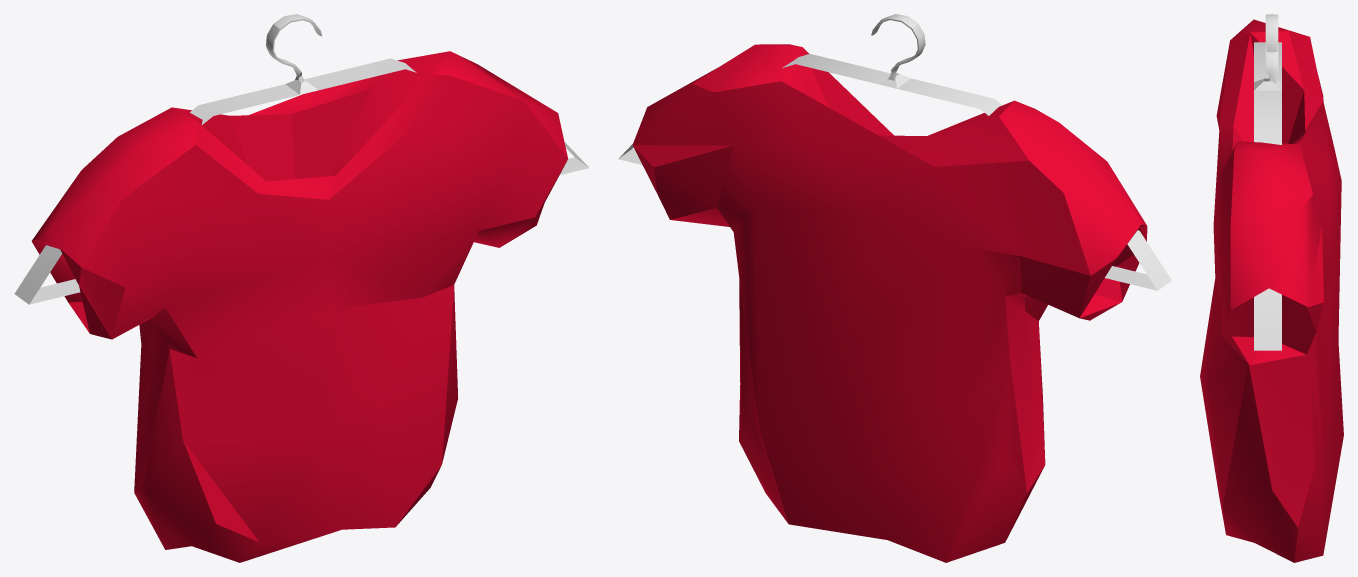
3 renders of one model, left to right at view 1: azimuth 30°, elevation 25°; view 2: azimuth 150°, elevation 25°; view 3: azimuth 270°, elevation 25°, orthographic. The views are drawn at different scales.
Visible parts, largest first — view 1: Cube, Cube.001, Cube.002; view 2: Cube, Cube.001, Cube.002; view 3: Cube, Cube.001, Cube.002.
Part boxes in pixels (x1,y1,x2,y2): Cube: (31,51,567,562); Cube.001: (14,58,588,304); Cube.002: (266,14,322,82); Cube: (632,44,1147,562); Cube.001: (618,53,1171,290); Cube.002: (871,14,925,80); Cube: (1200,19,1343,562); Cube.001: (1254,42,1281,350); Cube.002: (1265,14,1278,83).
Size of the model in its own units: 2.71 by 2.44 by 0.6393.
